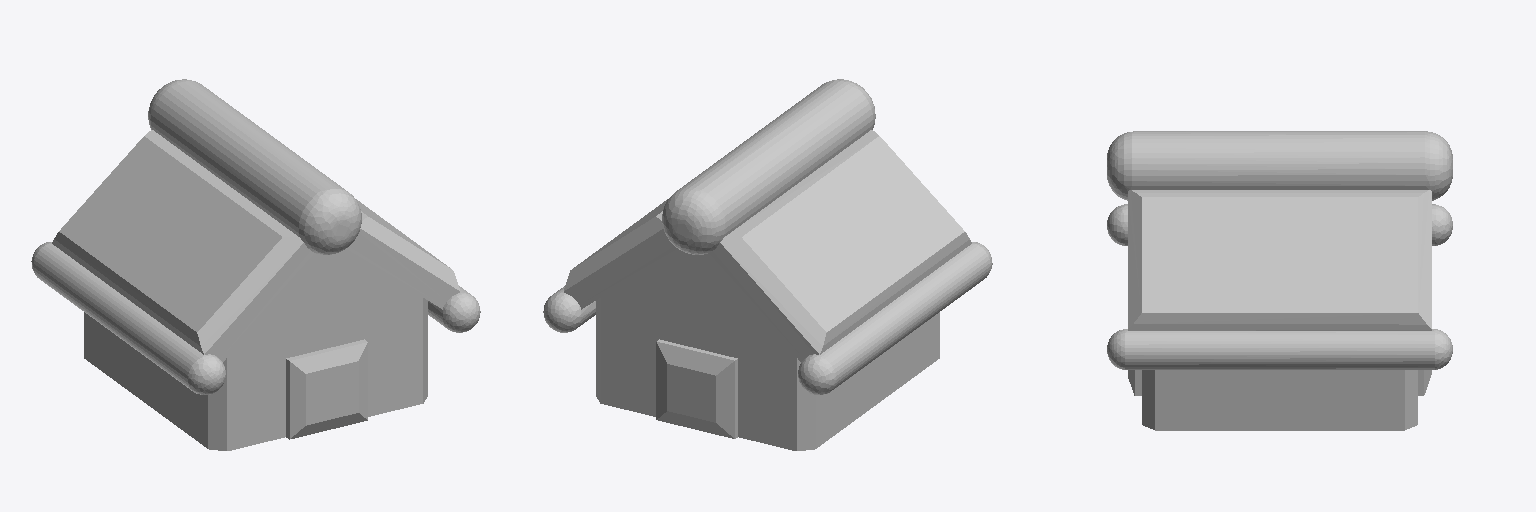
Rendered from Engine.obj.
3 views of the same model, side by side, from view 1: azimuth 30°, elevation 25°; view 2: azimuth 150°, elevation 25°; view 3: azimuth 270°, elevation 25° (orthographic).
Visible parts, largest first — view 1: Engine.001; view 2: Engine.001; view 3: Engine.001.
Boxes of the visible parts, x1,y1,x2,y2 form: Engine.001: [31, 79, 480, 450]; Engine.001: [543, 79, 992, 450]; Engine.001: [1107, 131, 1452, 430].
Size of the model in its own units: 0.9713 by 0.7714 by 1.